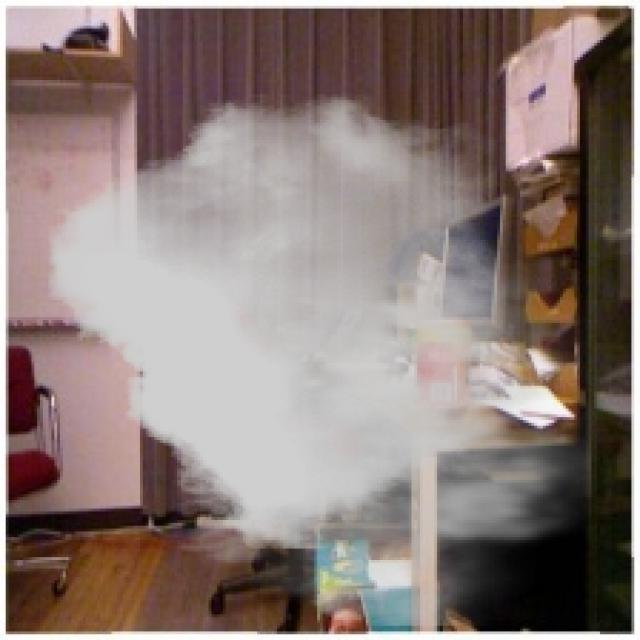smoke: (49, 94, 592, 626)
